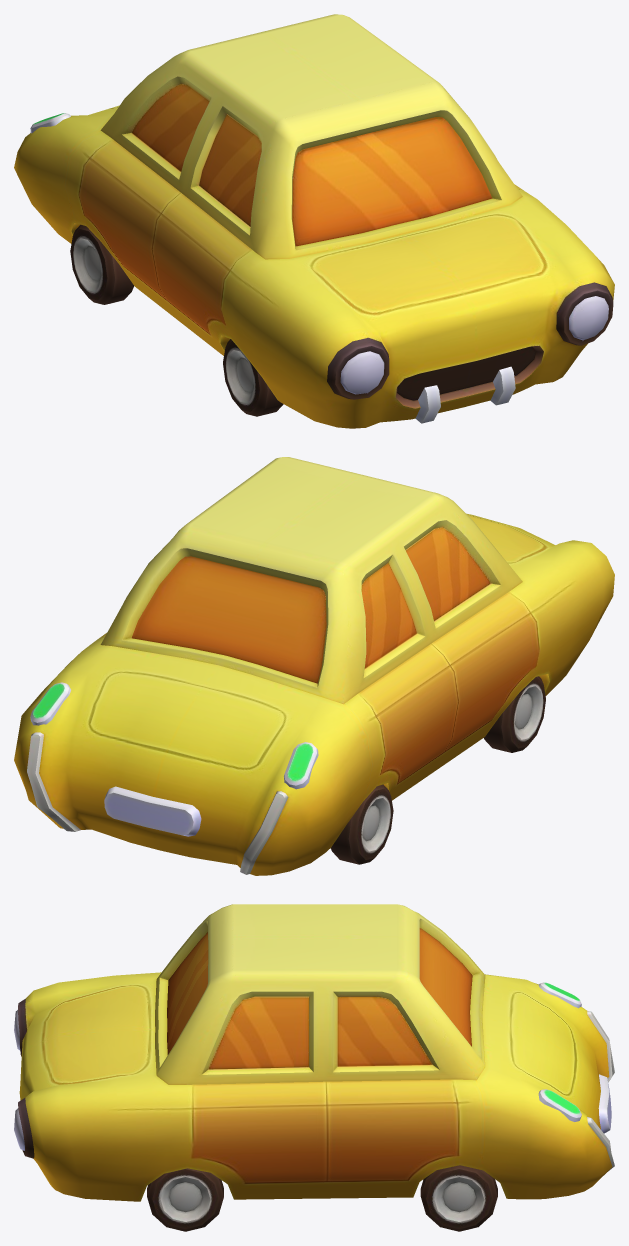
Rendered from Car03.fbx.
3 renders of one model, top to bottom at view 1: azimuth 30°, elevation 25°; view 2: azimuth 150°, elevation 25°; view 3: azimuth 270°, elevation 25°, orthographic. The views are drawn at different scales.
Visible parts, largest first — view 1: Car03; view 2: Car03; view 3: Car03.
Boxes of the visible parts, bbox=[...] form: Car03: bbox=[14, 14, 614, 428]; Car03: bbox=[14, 457, 614, 875]; Car03: bbox=[14, 904, 614, 1231].
Bounding box in the file's own units: 151 × 117 × 272.
